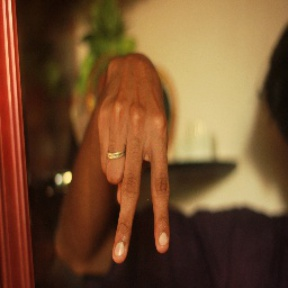Y: (91, 85, 179, 266)
